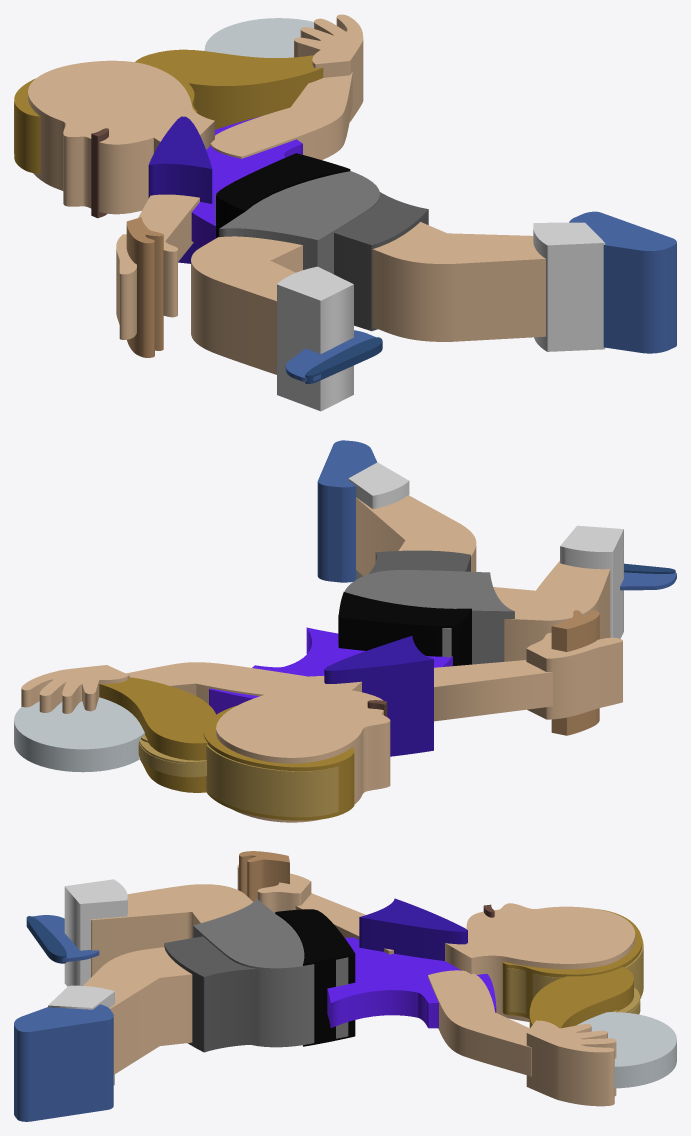
Rendered from emoji_u1f93e_1f3fc_200d_2640.glb.
3 views of the same model, one above another, from view 1: azimuth 30°, elevation 25°; view 2: azimuth 150°, elevation 25°; view 3: azimuth 270°, elevation 25° (orthographic). The views are drawn at different scales.
Visible parts, largest first — view 1: emoji_u1f93e_1f3fc_200d_2640; view 2: emoji_u1f93e_1f3fc_200d_2640; view 3: emoji_u1f93e_1f3fc_200d_2640.
Boxes of the visible parts, box(x1,y1,x2,y2) form: emoji_u1f93e_1f3fc_200d_2640: box(14, 14, 676, 411); emoji_u1f93e_1f3fc_200d_2640: box(14, 440, 676, 822); emoji_u1f93e_1f3fc_200d_2640: box(14, 851, 676, 1121).
Size of the model in its own units: 0.0224 by 0.0056 by 0.0335.
